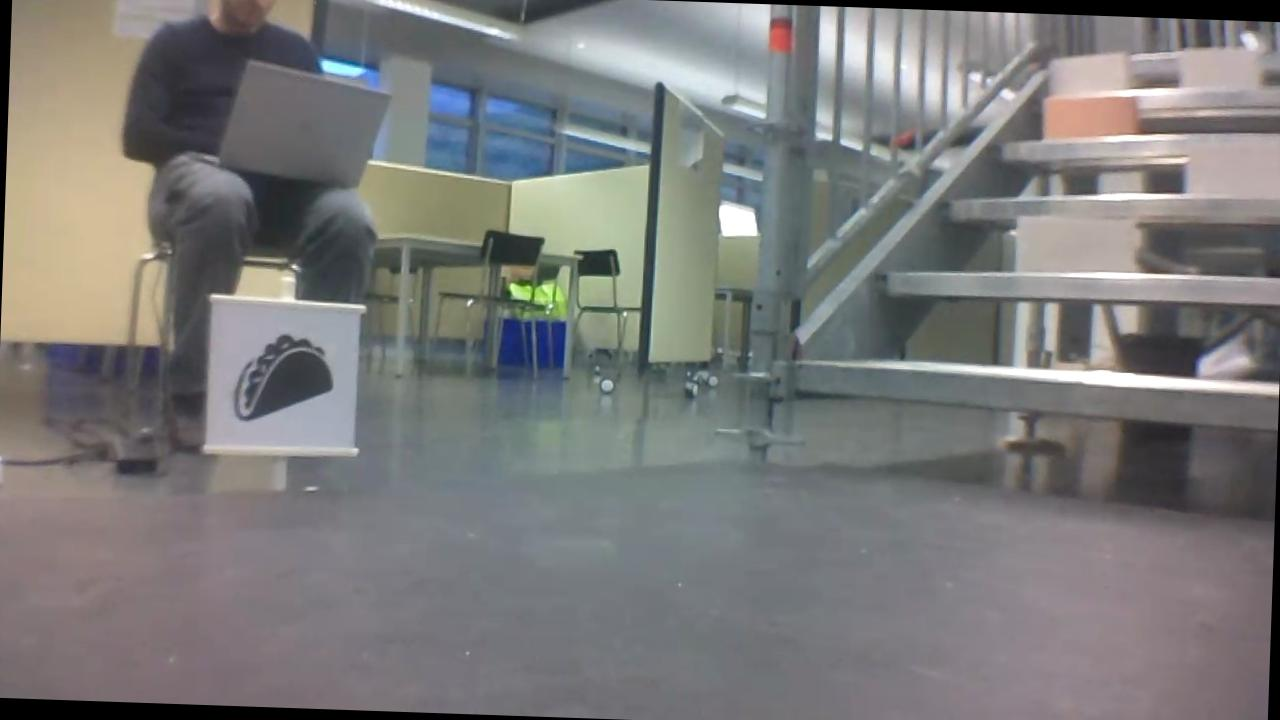brick: (1017, 214, 1133, 273), (1186, 140, 1280, 199), (1042, 92, 1138, 139), (1050, 51, 1134, 92), (1182, 46, 1261, 85)
edge: (791, 362, 1278, 428), (882, 265, 1280, 305), (944, 188, 1280, 229), (999, 126, 1280, 161)
stairs: (741, 5, 1280, 502)
taco: (225, 328, 340, 428)
